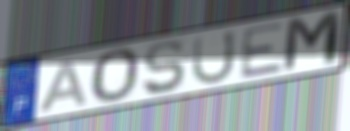A: (36, 57, 89, 115)
E: (238, 20, 287, 81)
M: (280, 8, 344, 76)
O: (89, 47, 143, 106)
S: (141, 38, 187, 97)
U: (190, 27, 238, 87)
